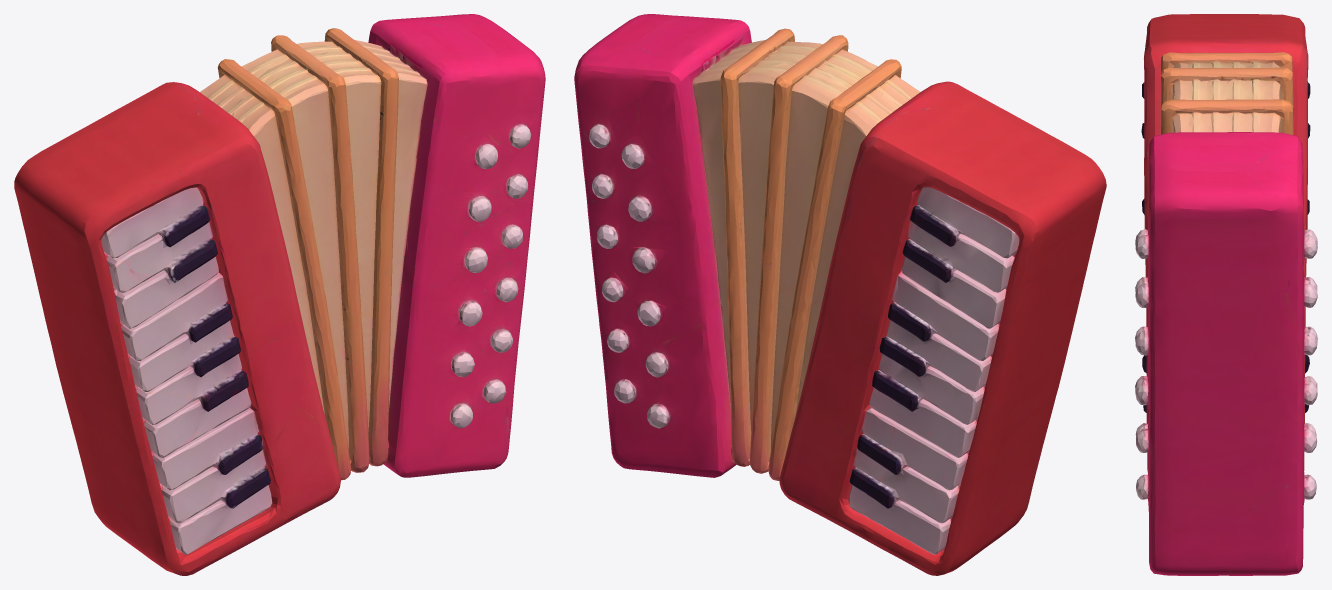
The model's file is accordion.glb.
The picture shows the model from 3 angles, left to right: view 1: azimuth 30°, elevation 25°; view 2: azimuth 150°, elevation 25°; view 3: azimuth 270°, elevation 25°; orthographic projection.
Visible parts, largest first — view 1: model; view 2: model; view 3: model.
Boxes of the visible parts, x1,y1,x2,y2 form: model: (14, 14, 545, 575); model: (574, 14, 1106, 575); model: (1135, 14, 1317, 575).
Bounding box in the file's own units: 1 × 0.9231 × 0.331.
Materials: 1 (1 with a texture image).
